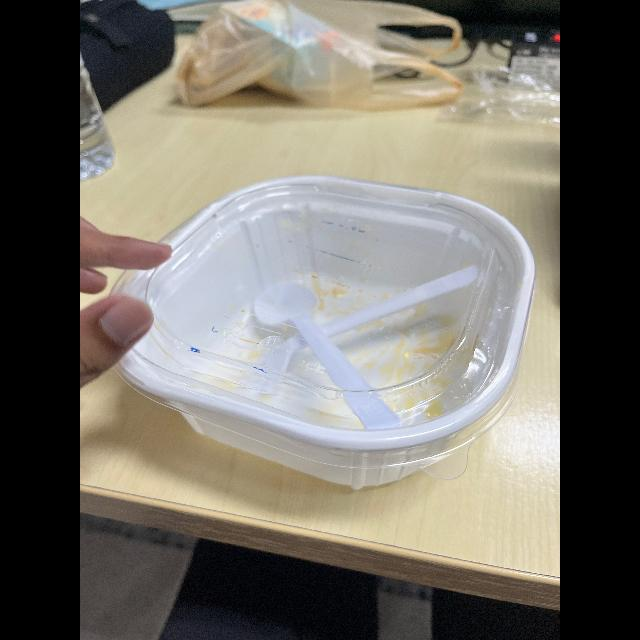plastic_box: (105, 165, 535, 487)
